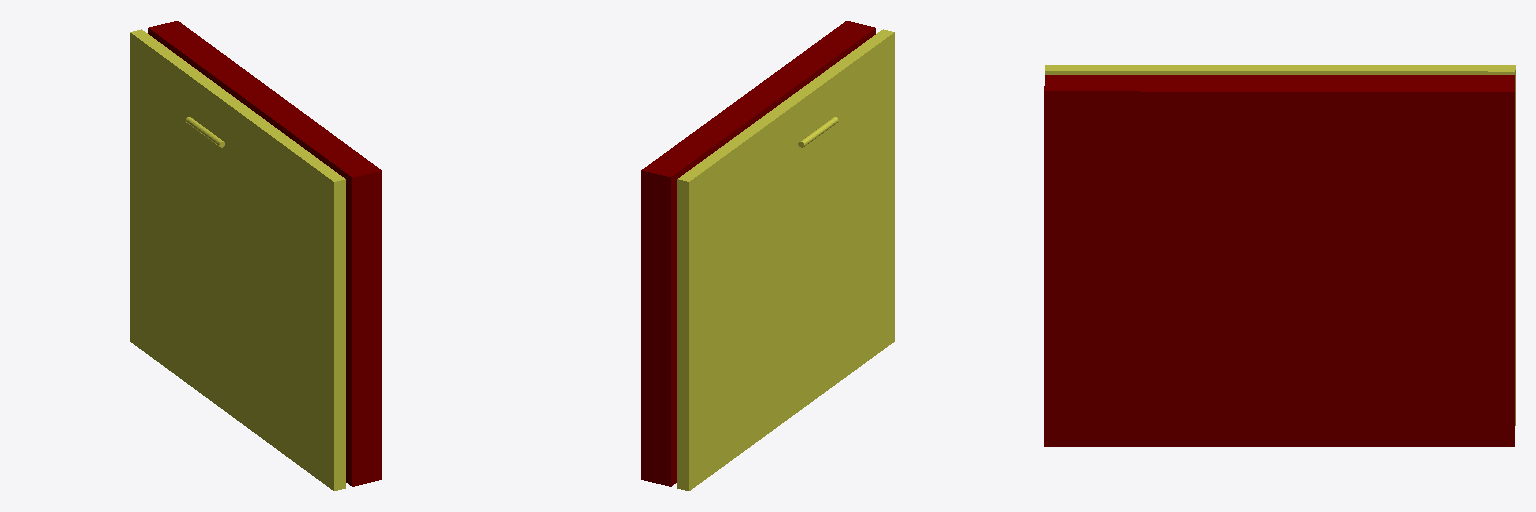
URDF robot description (door):
<?xml version="1.0" ?>
<!-- =================================================================================== -->
<!-- |    This document was autogenerated by xacro from drawer.urdf.xacro              | -->
<!-- |    EDITING THIS FILE BY HAND IS NOT RECOMMENDED                                 | -->
<!-- =================================================================================== -->
<robot name="door">
  <link name="world"/>
  <joint name="fixed" type="fixed">
    <parent link="world"/>
    <child link="drawer_frame"/>
    <origin rpy="0 0 3.14" xyz="0.65 0.3 0.01"/>
  </joint>
  <link name="drawer_frame">
    <visual>
      <origin rpy="0 0 0" xyz="0 0 0.25"/>
      <geometry>
        <box size="0.05 0.6 0.5"/>
      </geometry>
      <material name="frame_material">
        <color rgba="0.5 0.0 0.0 1"/>
      </material>
    </visual>
    <collision>
      <origin rpy="0 0 0" xyz="0 0 0.25"/>
      <geometry>
        <box size="0.05 0.6 0.5"/>
      </geometry>
    </collision>
  </link>
  <!--link name="door_frame_step">
        <visual>
            <origin rpy="0 0 0" xyz="0 0 0.25"/>
            <geometry>
                <box size="0.081 0.6 0.10"/>
            </geometry>
            <material name="frame_material">
                <color rgba="0.5 0.0 0.0 1" />
            </material>
        </visual>
        <collision>
            <origin rpy="0 0 0" xyz="0 0 0.25"/>
            <geometry>
                <box size="0.081 0.6 0.10"/>
            </geometry>
        </collision>
    </link>

    <joint name="step_joint" type="fixed">
        <parent link="door_frame"/>
        <child link="door_frame_step"/>
        <origin xyz="0.0155 0 0.31" rpy="0 0 0"/>
        <dynamics damping="1.0" friction="2.0"/>
        <axis xyz="0 1 0"/>
    </joint-->
  <link name="drawer_link">
    <inertial>
      <origin rpy="0 0 0" xyz="0 0 0.25"/>
      <mass value="1.0"/>
      <inertia ixx="0.048966669" ixy="0" ixz="0" iyy="0.046466667" iyz="0" izz="0.0041666669"/>
    </inertial>
    <visual>
      <origin rpy="0 0 0" xyz="0 0 0.25"/>
      <geometry>
        <box size="0.02 0.6 0.5"/>
      </geometry>
      <material name="drawer_material">
        <color rgba="0.8 0.8 0.3 1"/>
      </material>
    </visual>
    <collision>
      <origin rpy="0 0 0" xyz="0 0 0.25"/>
      <geometry>
        <box size="0.02 0.6 0.5"/>
      </geometry>
    </collision>
  </link>
  <joint name="articulation_joint" type="prismatic">
    <parent link="drawer_frame"/>
    <child link="drawer_link"/>
    <dynamics damping="1.0" friction="4.0"/>
    <origin xyz="0.046 0 0"/>
    <axis xyz="1 0 0"/>
    <limit effort="100" lower="0" upper="0.5" velocity="10.0"/>
  </joint>
  <link name="handle_link">
    <inertial>
      <origin rpy="0 0 0" xyz="0 0 0"/>
      <mass value="0.1"/>
      <inertia ixx="0.001" ixy="0" ixz="0" iyy="0.001" iyz="0" izz="0.001"/>
    </inertial>
    <visual>
      <origin rpy="0 0 0" xyz="0 0 0"/>
      <geometry>
        <cylinder length="0.10" radius="0.005"/>
      </geometry>
      <material name="handle_matreial">
        <color rgba="0.8 0.8 0.3 1"/>
      </material>
    </visual>
    <collision>
      <origin rpy="0 0 0" xyz="0 0 0"/>
      <geometry>
        <cylinder length="0.010" radius="0.005"/>
      </geometry>
    </collision>
  </link>
  <joint name="handle_joint" type="fixed">
    <parent link="drawer_link"/>
    <child link="handle_link"/>
    <origin rpy="1.5708 0 0" xyz="0.055 0 0.47"/>
    <dynamics damping="1.0" friction="2.0"/>
    <axis xyz="0 1 0"/>
  </joint>
</robot>

--- What the picture shows (computed from the rendered views, not written in the file) ---
The picture shows the robot from 3 angles, left to right: view 1: azimuth 30°, elevation 25°; view 2: azimuth 150°, elevation 25°; view 3: azimuth 270°, elevation 25°; orthographic projection.
Robot: door — 4 links, 3 joints (1 prismatic, 2 fixed); root link world; default pose: every joint at zero.
Visible links, largest first — view 1: drawer_link, drawer_frame; view 2: drawer_link, drawer_frame; view 3: drawer_frame, drawer_link.
Boxes of the visible links, x1,y1,x2,y2 form: drawer_link: (130, 29, 345, 490); drawer_frame: (148, 21, 381, 486); drawer_link: (677, 29, 894, 490); drawer_frame: (641, 21, 875, 486); drawer_frame: (1044, 75, 1514, 446); drawer_link: (1045, 65, 1515, 425).
Bounding box of the posed robot: 0.1316 × 0.6001 × 0.5 m (x, y, z).
Geometry: primitives only (box / cylinder / sphere), no mesh files.